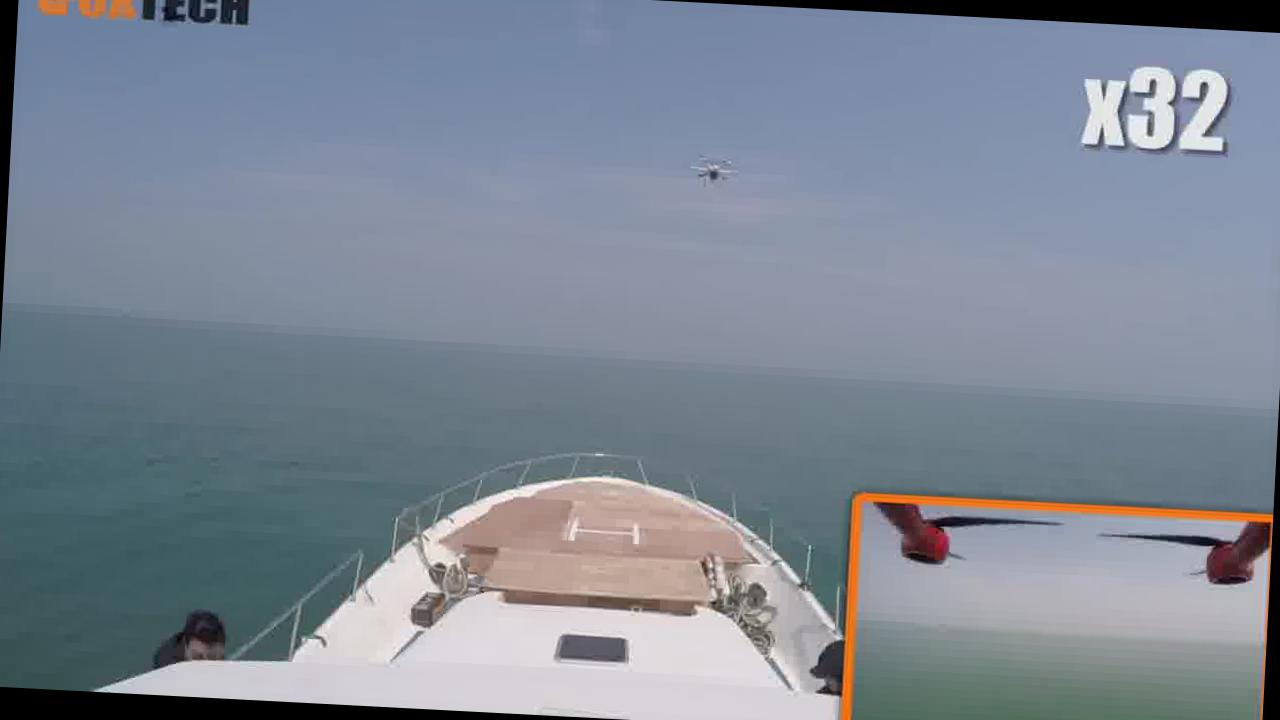drone: (683, 147, 741, 199)
